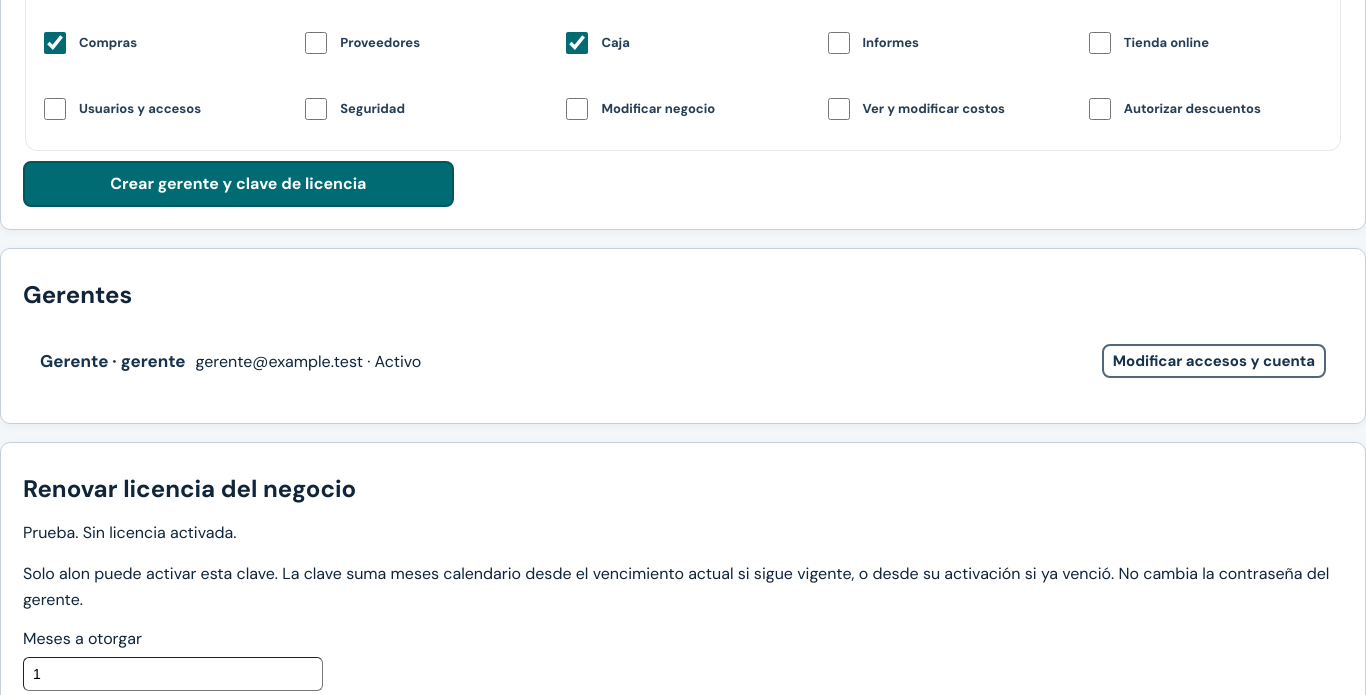
Test: manager editing sends only the fields accepted by the server
(page scrolled)
Click the button "Modificar accesos y cuenta": (1214, 361) [1102,344,1326,378]
(page scrolled)
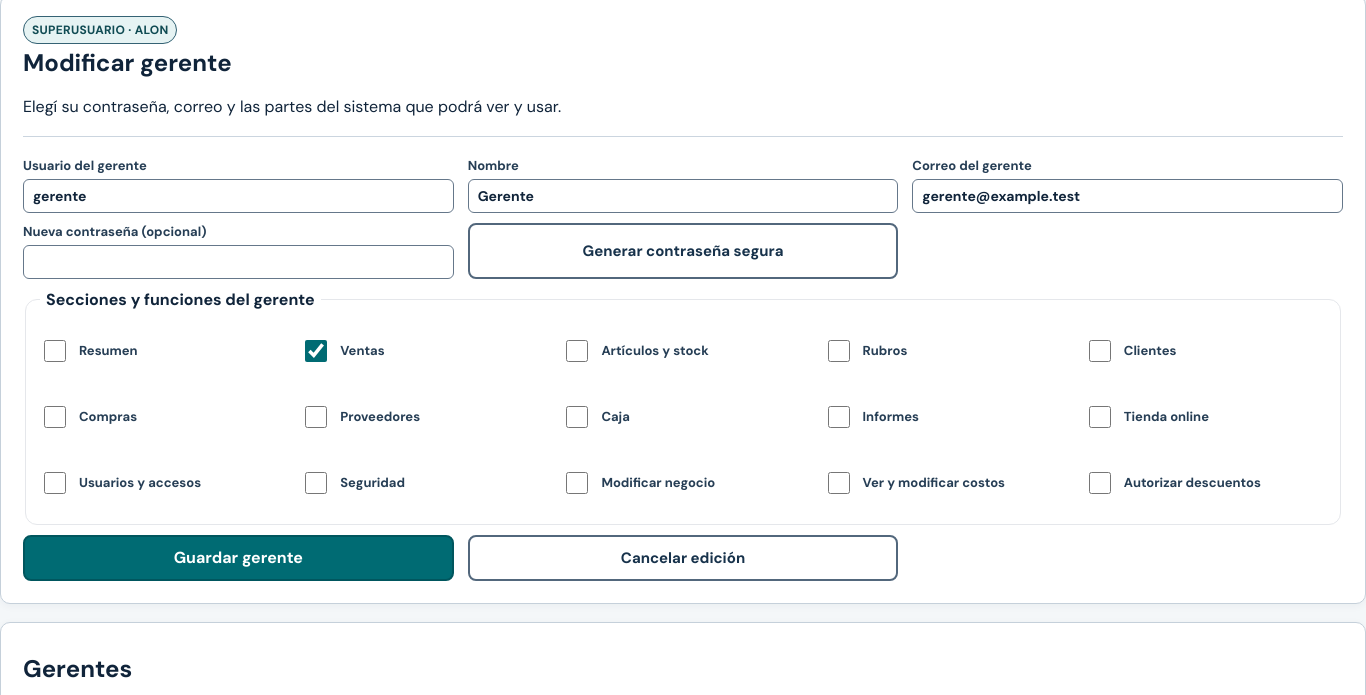
Click the button "Guardar gerente": (238, 558) [23,535,454,581]
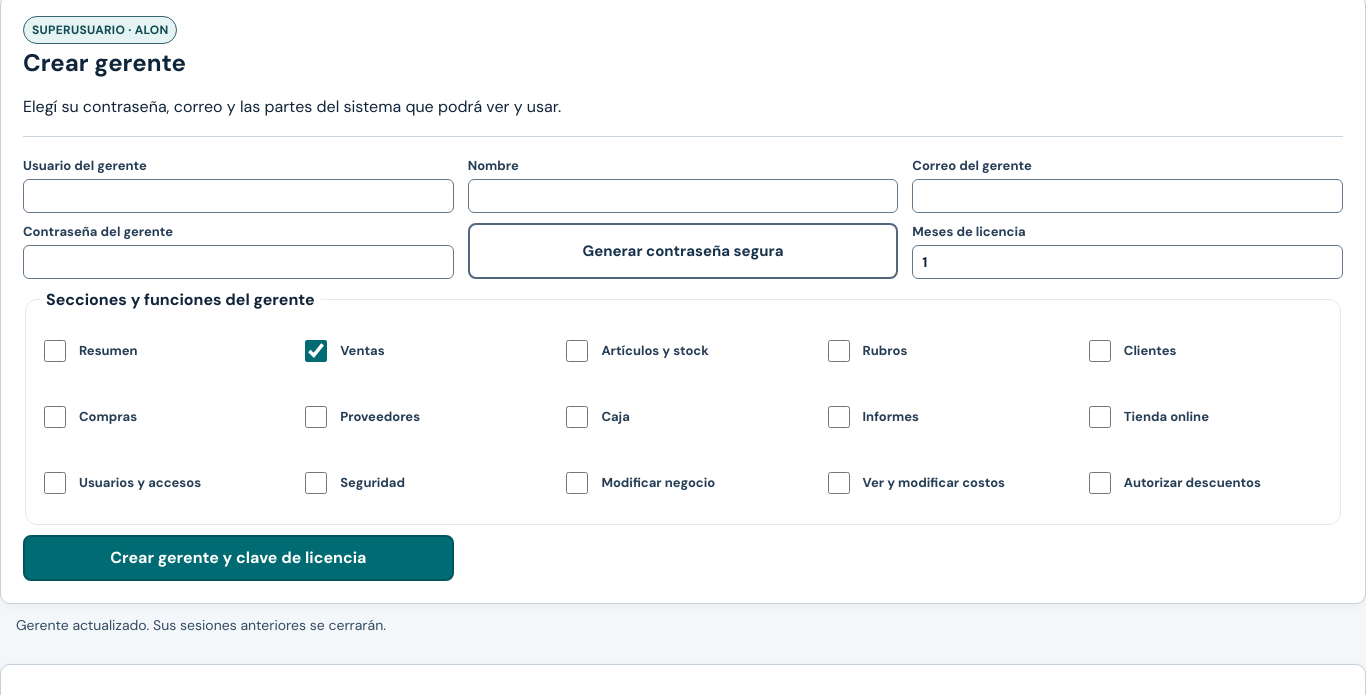
Expected: the text "Gerente actualizado. Sus sesiones anteriores se cerrarán." is shown, [0,604,1365,646]
